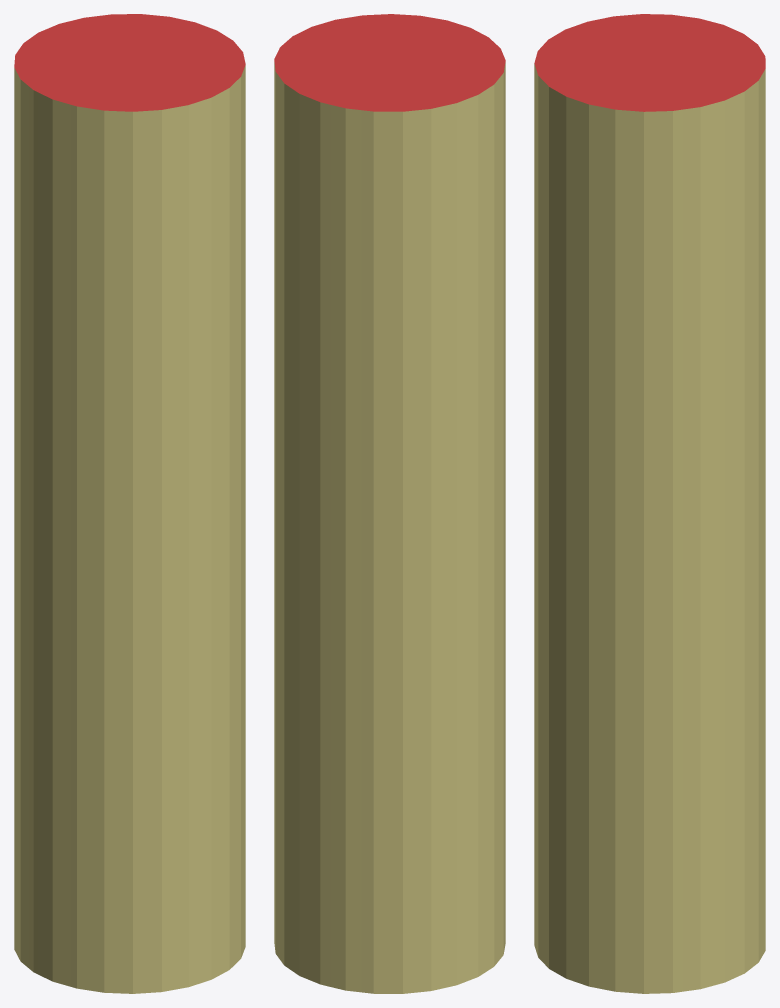
3 views of the same model, side by side, from view 1: azimuth 30°, elevation 25°; view 2: azimuth 150°, elevation 25°; view 3: azimuth 270°, elevation 25° (orthographic).
Bounding box in the file's own units: 2.14 × 2.14 × 8.99.
